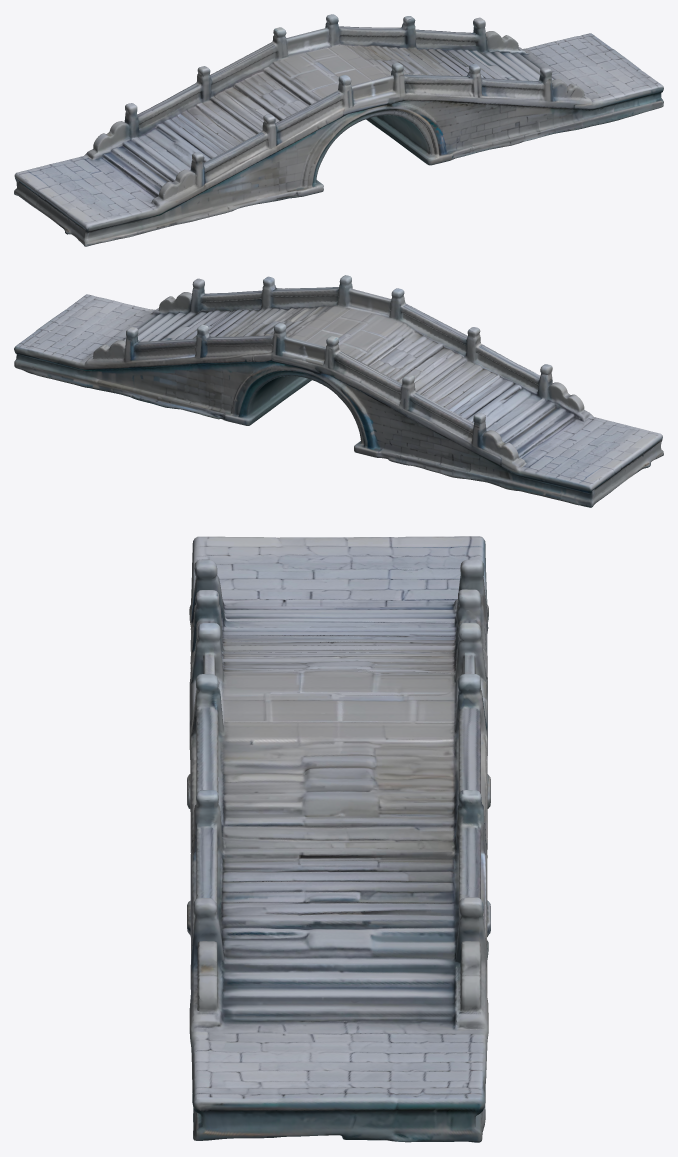
File: duanqiao-bridge.glb
The picture shows the model from 3 angles, top to bottom: view 1: azimuth 30°, elevation 25°; view 2: azimuth 150°, elevation 25°; view 3: azimuth 270°, elevation 25°; orthographic projection. The views are drawn at different scales.
Parts seen in each view (by area): view 1: tripo_node_d8c40b6b-eab7-47d7-9af8-2fd290a471ae; view 2: tripo_node_d8c40b6b-eab7-47d7-9af8-2fd290a471ae; view 3: tripo_node_d8c40b6b-eab7-47d7-9af8-2fd290a471ae.
Part boxes in pixels (left/top/right/bottom): tripo_node_d8c40b6b-eab7-47d7-9af8-2fd290a471ae: left=14, top=14, right=663, bottom=246; tripo_node_d8c40b6b-eab7-47d7-9af8-2fd290a471ae: left=14, top=275, right=663, bottom=507; tripo_node_d8c40b6b-eab7-47d7-9af8-2fd290a471ae: left=187, top=536, right=490, bottom=1142.
Size of the model in its own units: 1 by 0.1772 by 0.2261.
Materials: 1 (1 with a texture image).
